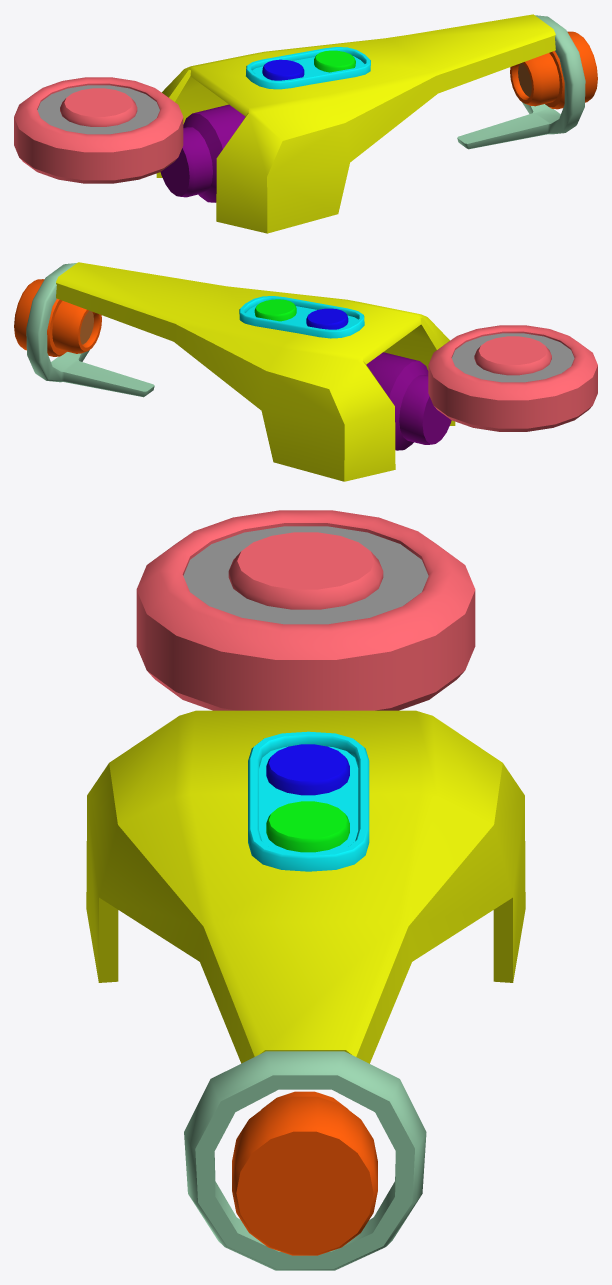
The model's file is foreArmLeft.FBX.
3 views of the same model, one above another, from view 1: azimuth 30°, elevation 25°; view 2: azimuth 150°, elevation 25°; view 3: azimuth 270°, elevation 25° (orthographic). The views are drawn at different scales.
Visible parts, largest first — view 1: Cylinder012; view 2: Cylinder012; view 3: Cylinder012.
Part boxes in pixels (x1,y1,x2,y2): Cylinder012: (14,14,597,233); Cylinder012: (14,262,597,481); Cylinder012: (86,510,525,1270).
Bounding box in the file's own units: 68.31 × 15.86 × 23.45.
